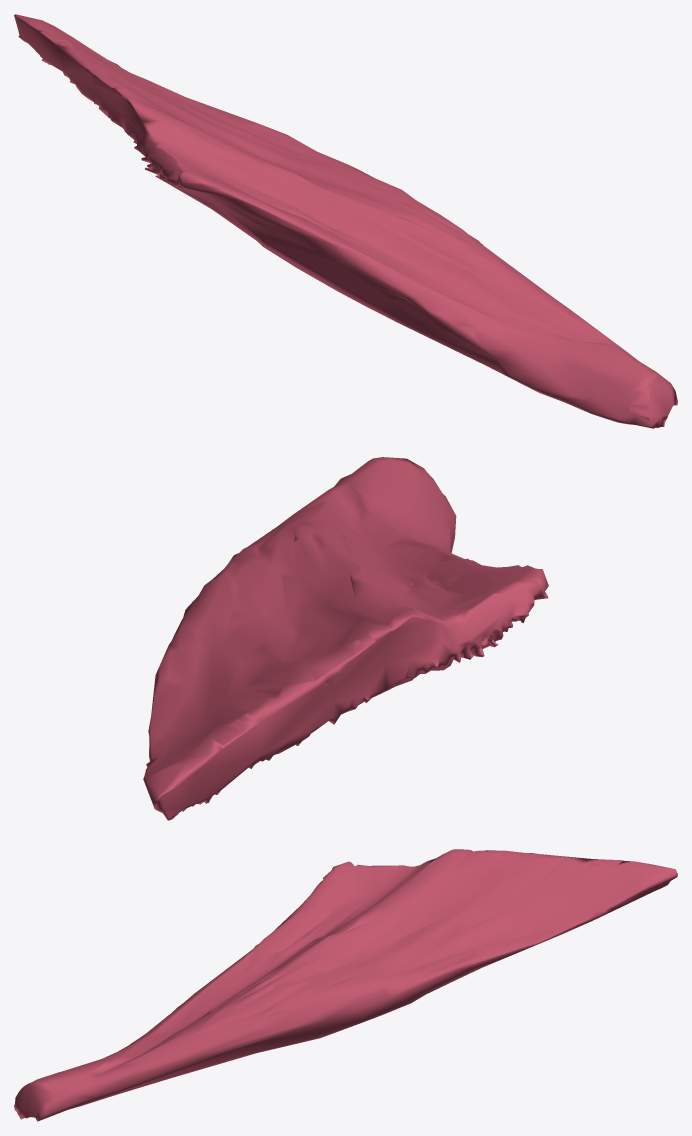
3 views of the same model, one above another, from view 1: azimuth 30°, elevation 25°; view 2: azimuth 150°, elevation 25°; view 3: azimuth 270°, elevation 25° (orthographic). The views are drawn at different scales.
Parts seen in each view (by area): view 1: 右侧短收肌; view 2: 右侧短收肌; view 3: 右侧短收肌.
Boxes of the visible parts, bbox=[...] form: 右侧短收肌: bbox=[14, 14, 677, 428]; 右侧短收肌: bbox=[143, 457, 548, 820]; 右侧短收肌: bbox=[14, 849, 677, 1121].
Size of the model in its own units: 0.1165 by 0.0704 by 0.2597.
